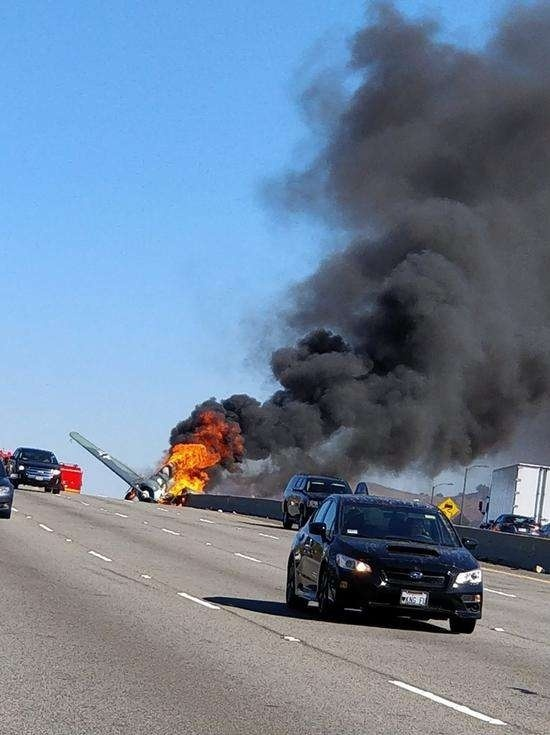fire: (152, 403, 244, 504)
